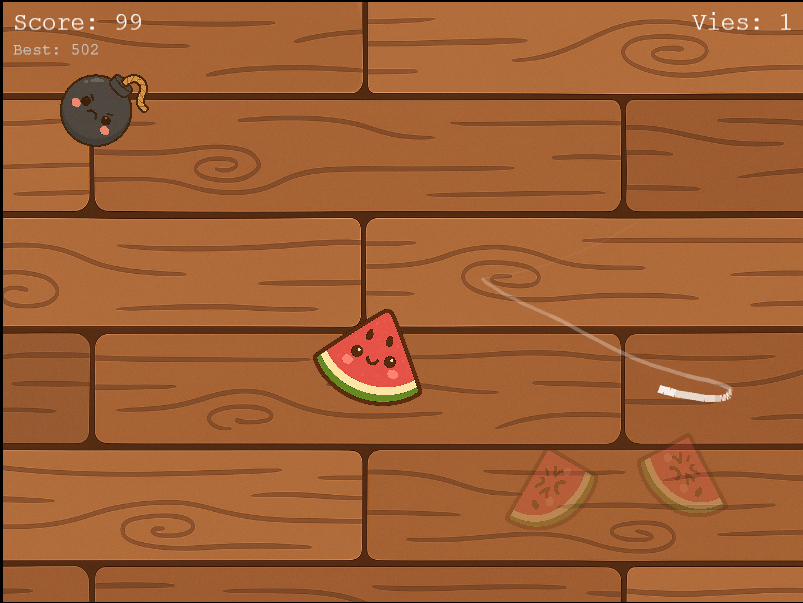bomb: (55, 67, 153, 147)
fruit: (305, 302, 434, 416)
